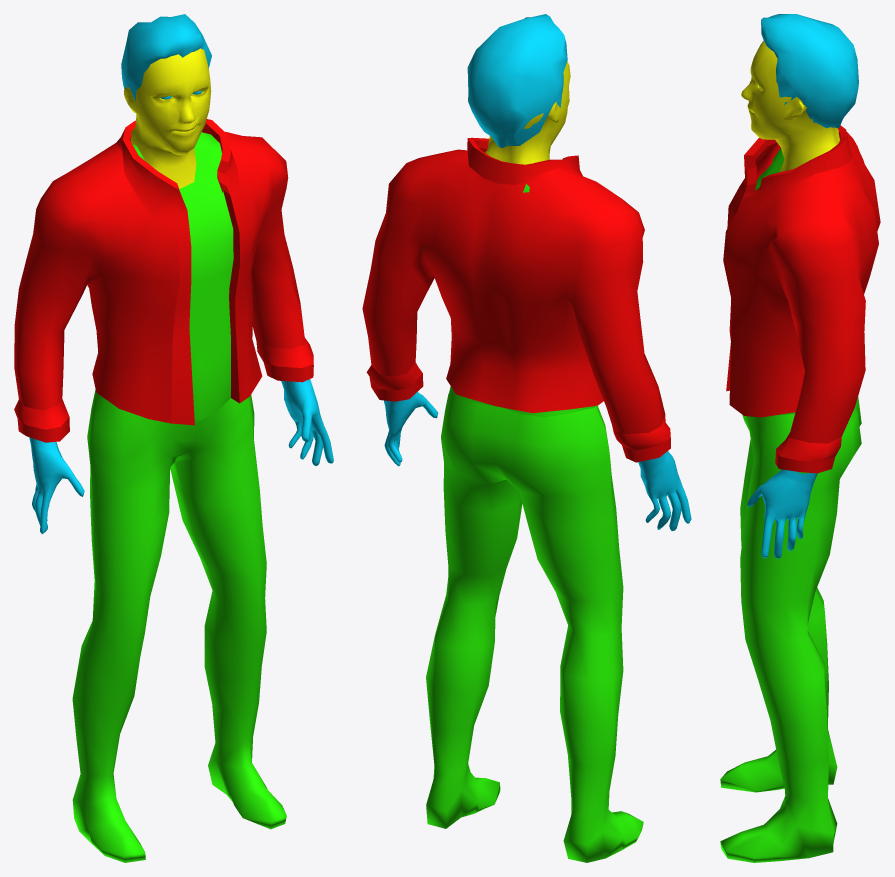
3 renders of one model, left to right at view 1: azimuth 30°, elevation 25°; view 2: azimuth 150°, elevation 25°; view 3: azimuth 270°, elevation 25°, orthographic.
Parts seen in each view (by area): view 1: StarLordTorso_Low, Jacket_Low, StarLordMisc_Low, StarLordBody_Low; view 2: Jacket_Low, StarLordTorso_Low, StarLordMisc_Low, StarLordBody_Low; view 3: Jacket_Low, StarLordTorso_Low, StarLordMisc_Low, StarLordBody_Low.
Part boxes in pixels (<box>): StarLordTorso_Low: <box>30,132,286,862</box>; Jacket_Low: <box>14,119,313,442</box>; StarLordMisc_Low: <box>29,14,333,533</box>; StarLordBody_Low: <box>124,48,211,188</box>; Jacket_Low: <box>362,137,670,462</box>; StarLordTorso_Low: <box>426,176,643,862</box>; StarLordMisc_Low: <box>384,14,691,531</box>; StarLordBody_Low: <box>485,61,570,164</box>; Jacket_Low: <box>723,125,880,473</box>; StarLordTorso_Low: <box>720,148,861,862</box>; StarLordMisc_Low: <box>747,14,858,558</box>; StarLordBody_Low: <box>741,40,839,171</box>.
Bounding box in the file's own units: 0.7654 × 2 × 0.3615.
